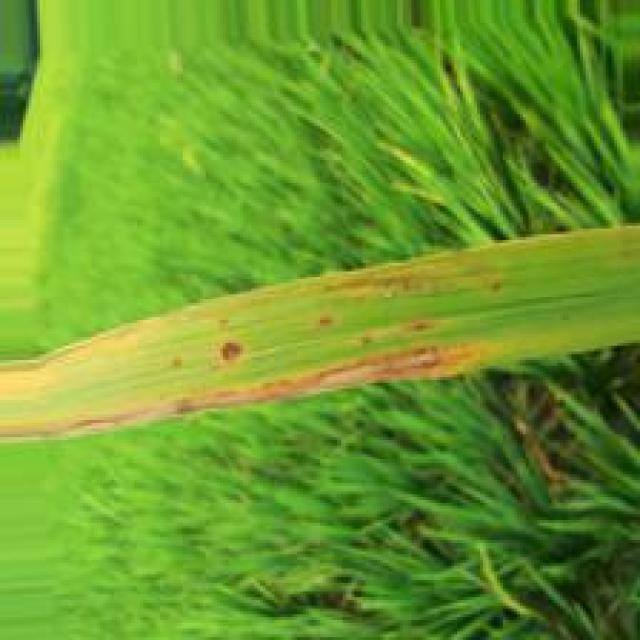Leaf_Blast: (70, 339, 506, 428), (216, 336, 245, 377)
